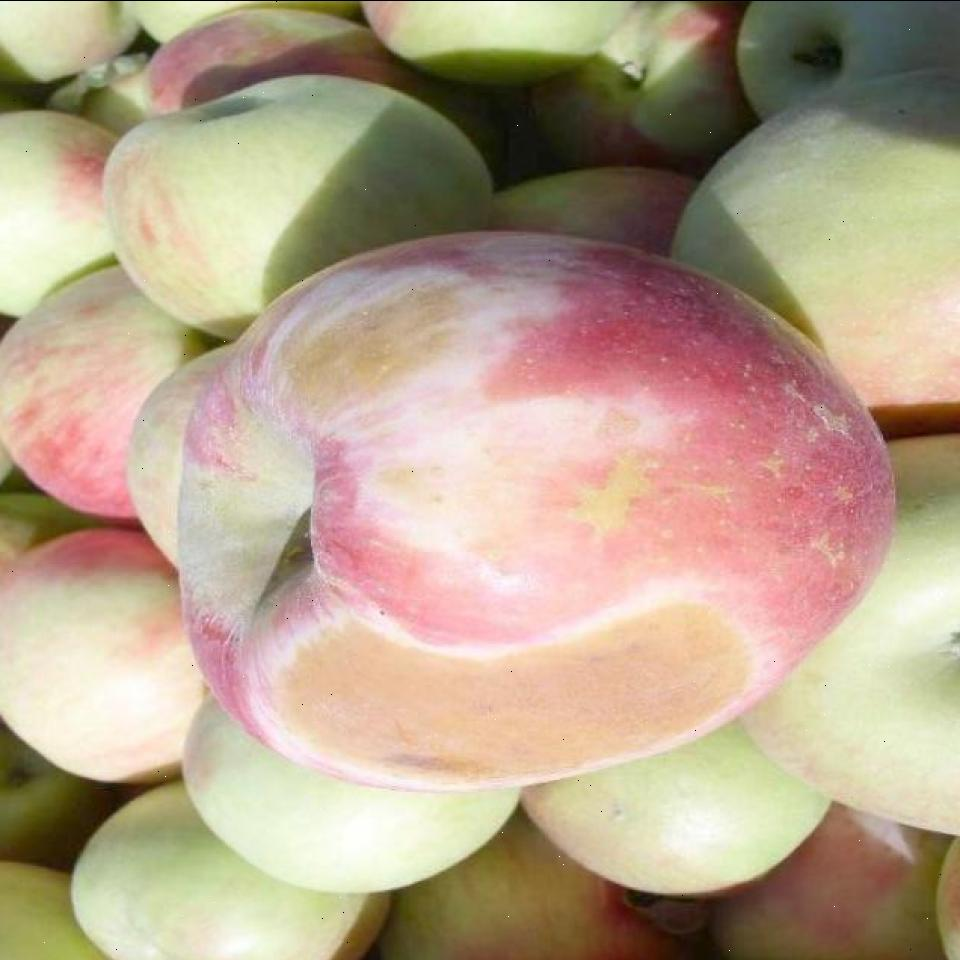Sunscald: (247, 572, 780, 809)
